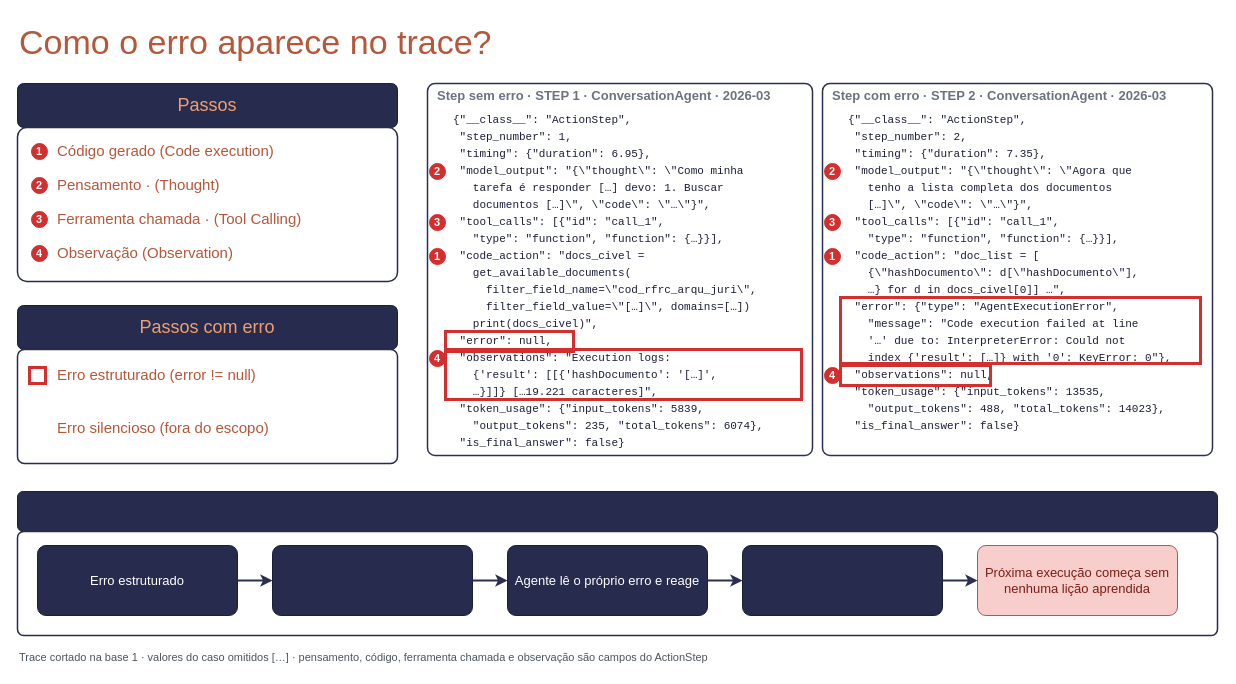
Image size: 1236x684. Some labels were removed from this diagram. Here are the shapes that lost their labels. From the top down, the centre of each, then its label:
the point at 617,511: A execução termina …
the point at 372,580: A mensagem entra no contexto do próximo passo
the point at 842,580: Todo contexto é descartado
